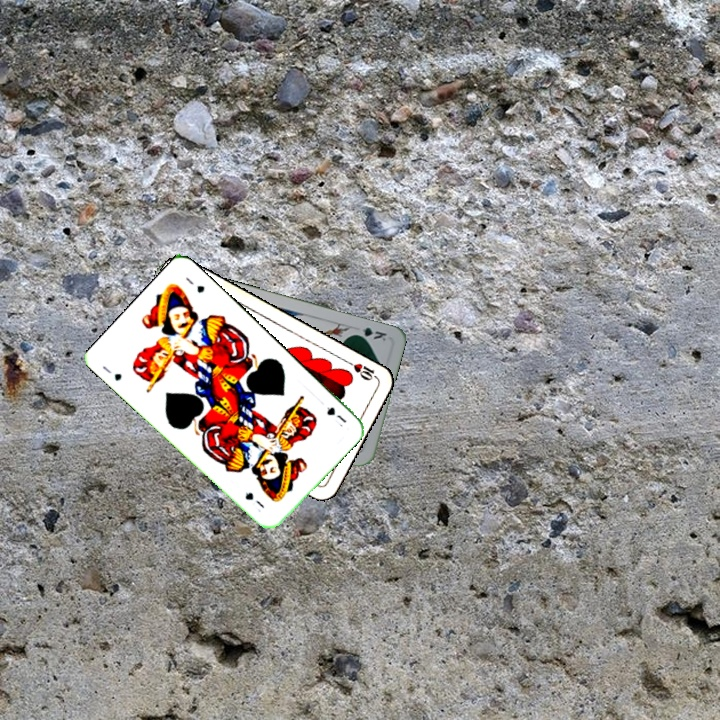GK: (349, 323, 390, 344)
GU: (322, 403, 349, 426), (98, 362, 125, 383)
H10: (343, 357, 380, 383)
